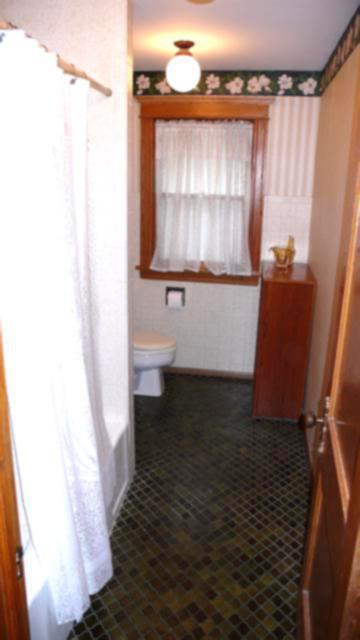Ducha: (0, 59, 126, 639)
